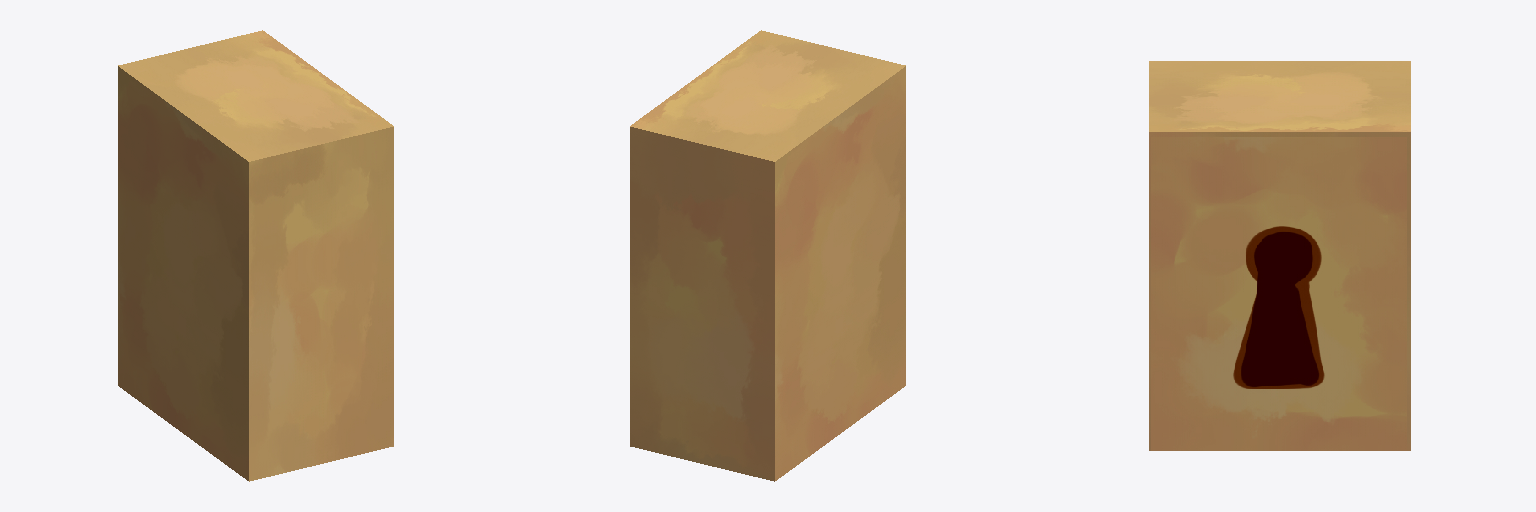
The picture shows the model from 3 angles: view 1: azimuth 30°, elevation 25°; view 2: azimuth 150°, elevation 25°; view 3: azimuth 270°, elevation 25°; orthographic projection.
Parts seen in each view (by area): view 1: Cube; view 2: Cube; view 3: Cube.
Boxes of the visible parts, box(x1,y1,x2,y2) form: Cube: box(118, 30, 393, 481); Cube: box(630, 30, 905, 481); Cube: box(1149, 61, 1410, 450).
Size of the model in its own units: 0.9524 by 2 by 1.49.
1 materials, 1 textured.